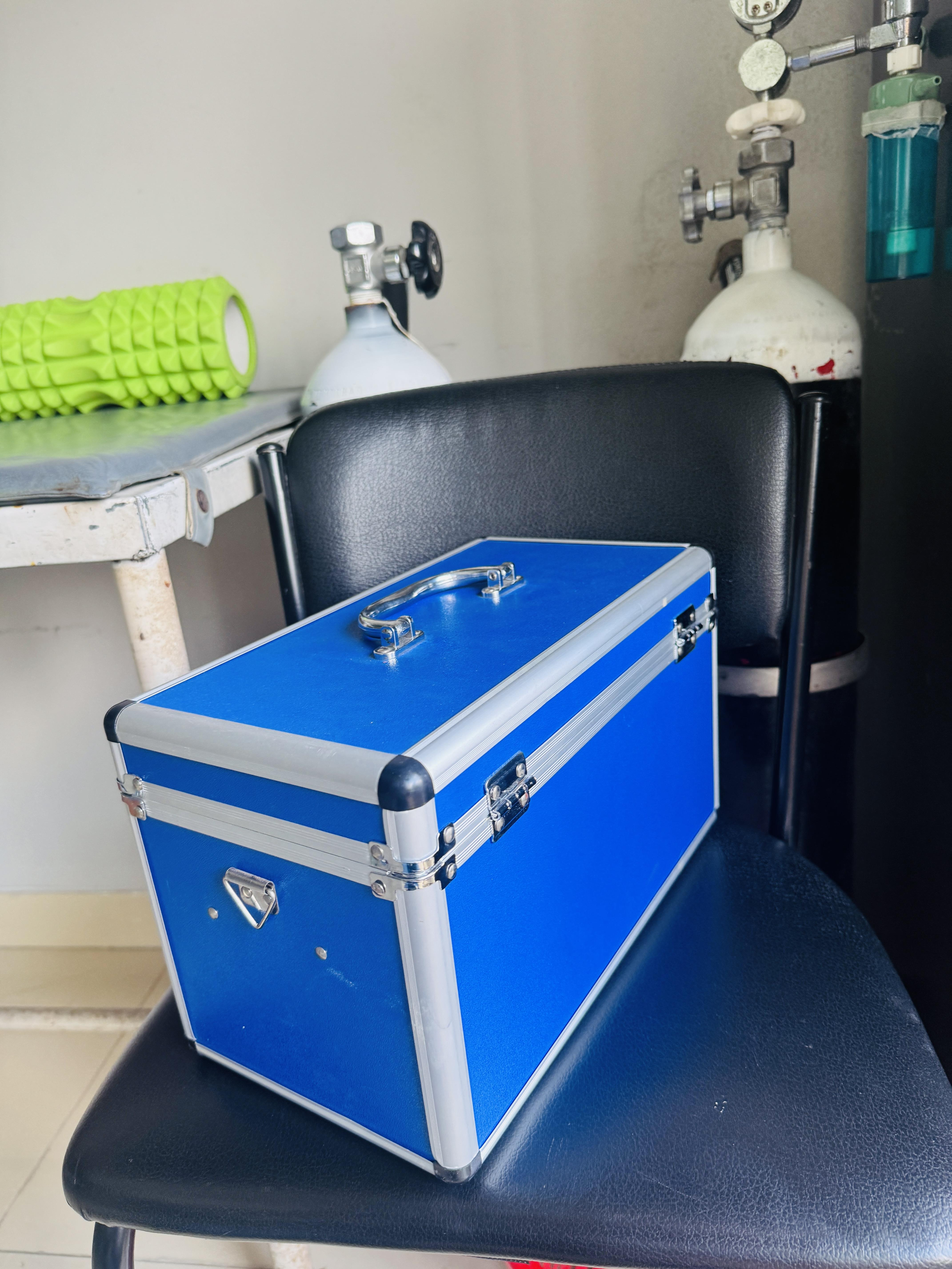FirstAidBox: (91, 503, 755, 1192)
